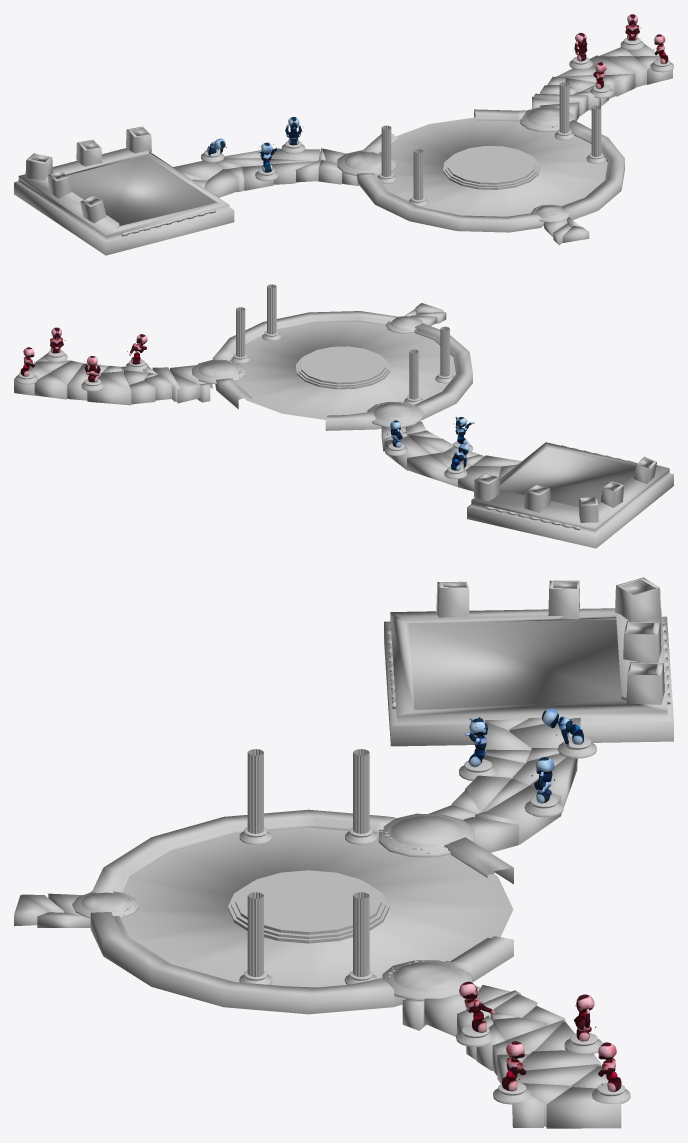
Rendered from Cenario_Leandro_22_04.fbx.
3 renders of one model, top to bottom at view 1: azimuth 30°, elevation 25°; view 2: azimuth 150°, elevation 25°; view 3: azimuth 270°, elevation 25°, orthographic. The views are drawn at different scales.
Visible parts, largest first — view 1: Main Hall.003, Blacksmith Area.001, Bridge 4, Bridge 3, Portao2.002, Portao2.003, Bridge 1.001, Entidade4, Entidade2, Entidade4.001, Entidade3.002, Portao2.004 (+3 smaller); view 2: Main Hall.003, Blacksmith Area.001, Bridge 3, Bridge 4, Portao2.002, Portao2.003, Bridge 1.001, Entidade, Entidade4.001, Portao2.004, Entidade1.001, Entidade3.001 (+3 smaller); view 3: Main Hall.003, Blacksmith Area.001, Bridge 3, Bridge 4, Portao2.002, Portao2.003, Bridge 1.001, Entidade1.001, Entidade, Entidade3.001, Portao2.004, Entidade3.002 (+3 smaller).
Boxes of the visible parts, bbox=[...] form: Main Hall.003: bbox=[357, 82, 624, 232]; Blacksmith Area.001: bbox=[14, 126, 234, 255]; Bridge 4: bbox=[173, 147, 358, 197]; Bridge 3: bbox=[532, 44, 672, 121]; Portao2.002: bbox=[337, 150, 395, 176]; Portao2.003: bbox=[520, 107, 573, 131]; Bridge 1.001: bbox=[544, 217, 589, 245]; Entidade4: bbox=[281, 117, 305, 153]; Entidade2: bbox=[255, 142, 280, 180]; Entidade4.001: bbox=[569, 32, 592, 69]; Entidade3.002: bbox=[620, 14, 644, 49]; Portao2.004: bbox=[531, 204, 570, 222]; Main Hall.003: bbox=[212, 284, 472, 430]; Blacksmith Area.001: bbox=[467, 442, 673, 548]; Bridge 3: bbox=[14, 355, 212, 405]; Bridge 4: bbox=[381, 420, 521, 491]; Portao2.002: bbox=[367, 402, 422, 427]; Portao2.003: bbox=[192, 360, 245, 383]; Bridge 1.001: bbox=[404, 303, 446, 325]; Entidade: bbox=[444, 444, 469, 479]; Entidade4.001: bbox=[81, 356, 104, 391]; Portao2.004: bbox=[385, 316, 423, 333]; Entidade1.001: bbox=[126, 334, 148, 370]; Entidade3.001: bbox=[45, 327, 67, 361]; Main Hall.003: bbox=[90, 749, 513, 1014]; Blacksmith Area.001: bbox=[384, 577, 673, 746]; Bridge 3: bbox=[402, 985, 621, 1128]; Bridge 4: bbox=[429, 717, 580, 852]; Portao2.002: bbox=[378, 813, 474, 857]; Portao2.003: bbox=[382, 960, 471, 1001]; Bridge 1.001: bbox=[14, 893, 90, 927]; Entidade1.001: bbox=[456, 981, 495, 1046]; Entidade: bbox=[542, 708, 596, 758]; Entidade3.001: bbox=[493, 1041, 531, 1104]; Portao2.004: bbox=[72, 891, 139, 918]; Entidade3.002: bbox=[592, 1042, 630, 1103].
Size of the model in its own units: 89382 by 9714 by 50586.
